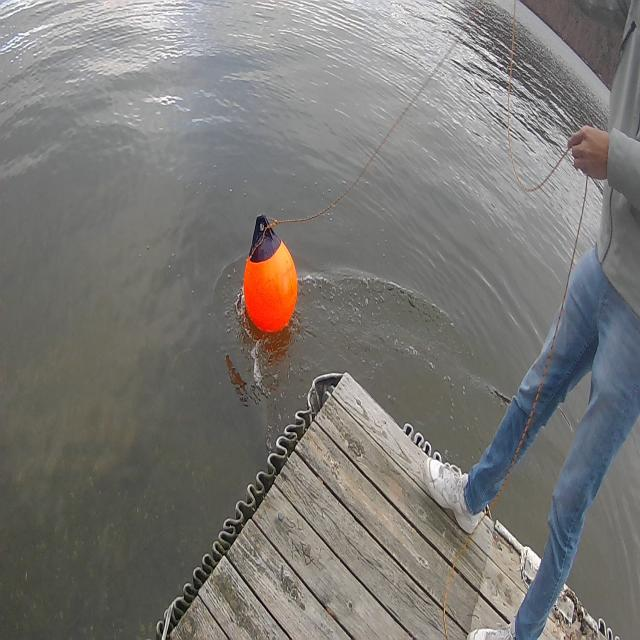Buoy: (239, 206, 302, 340)
